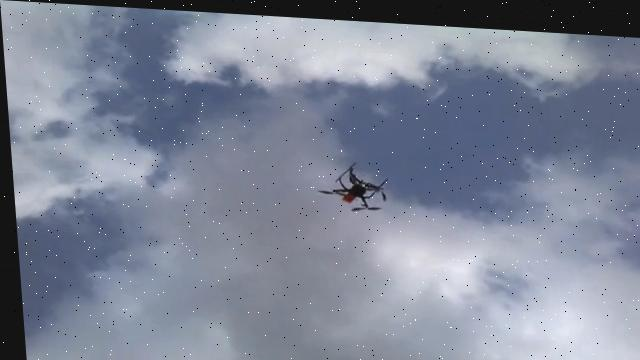drone: (312, 157, 388, 211)
